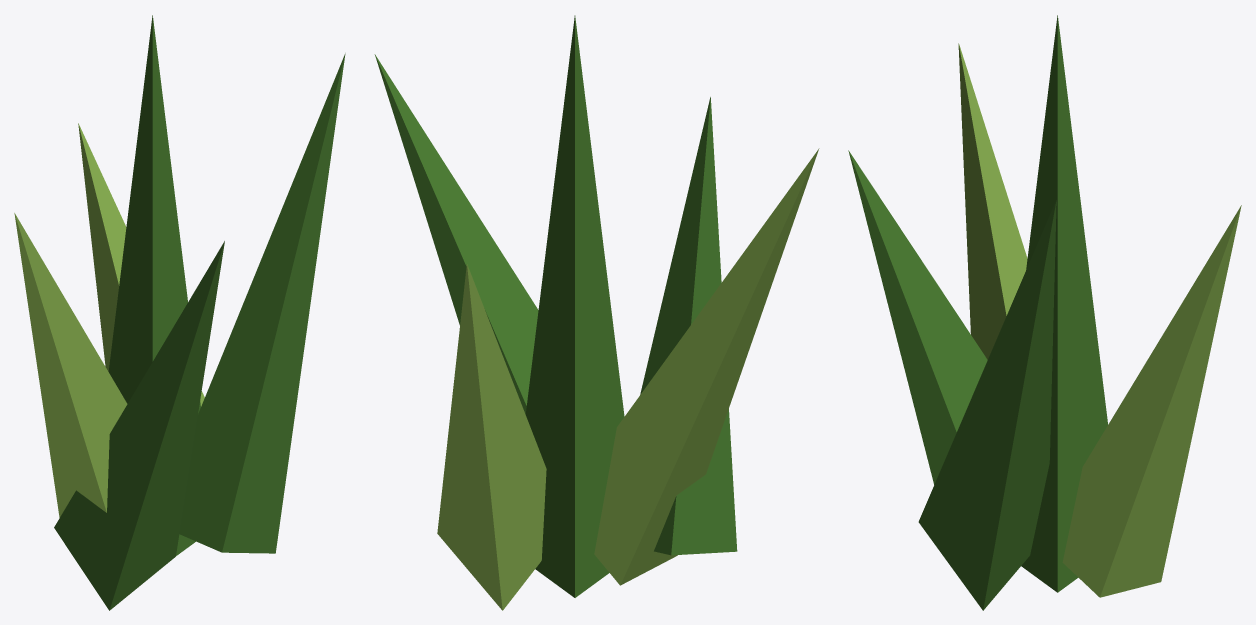
File: grass_tuft.glb
The picture shows the model from 3 angles, left to right: view 1: azimuth 30°, elevation 25°; view 2: azimuth 150°, elevation 25°; view 3: azimuth 270°, elevation 25°; orthographic projection. The views are drawn at different scales.
Visible parts, largest first — view 1: body; view 2: body; view 3: body.
Part boxes in pixels (bbox=[...]): body: bbox=[14, 15, 345, 610]; body: bbox=[374, 15, 819, 610]; body: bbox=[848, 15, 1241, 610].
Size of the model in its own units: 0.2399 by 0.3267 by 0.2087.
